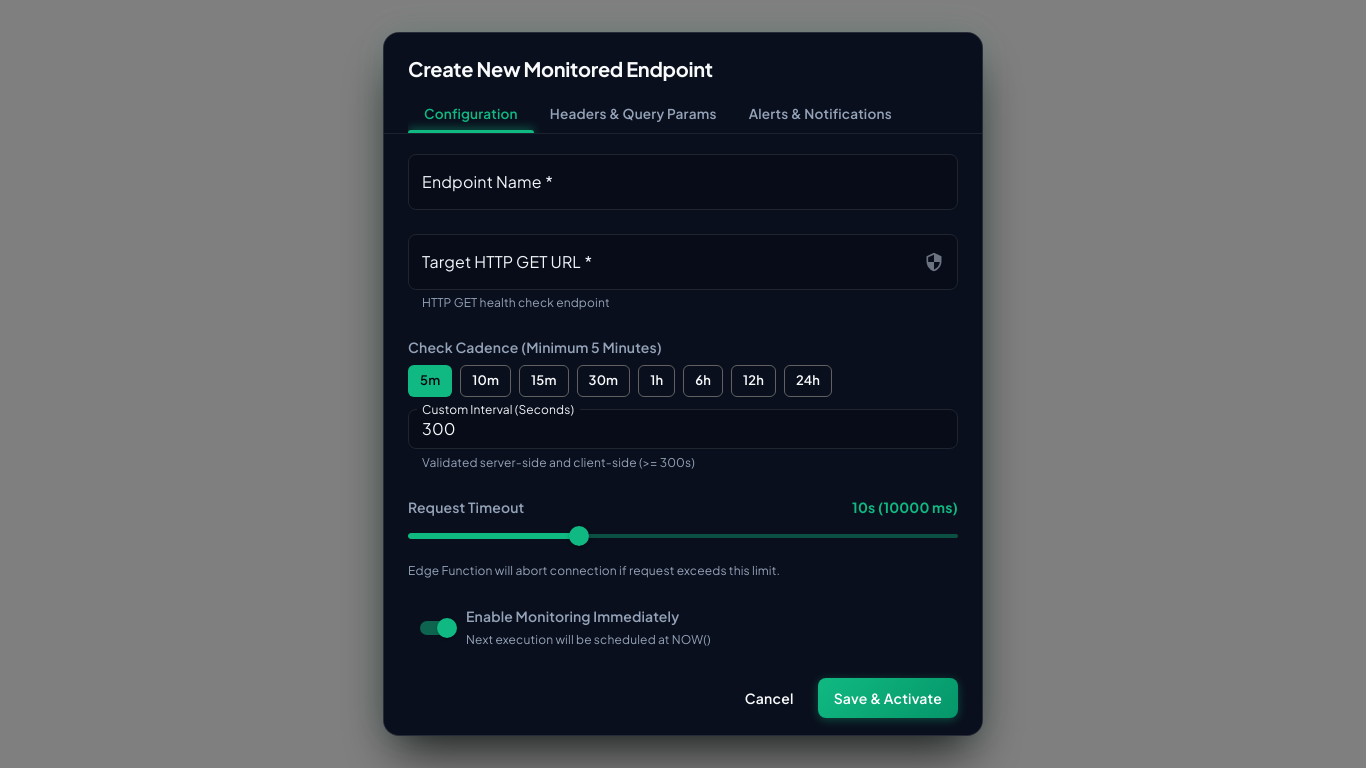
Test: EndpointFormModal Component › rejects invalid notification email address
This screenshot has width=1366, height=768.
# Switch to Alerts tab
Click the tab "Alerts & Notifications" at (820, 113), box [733,93,908,133]
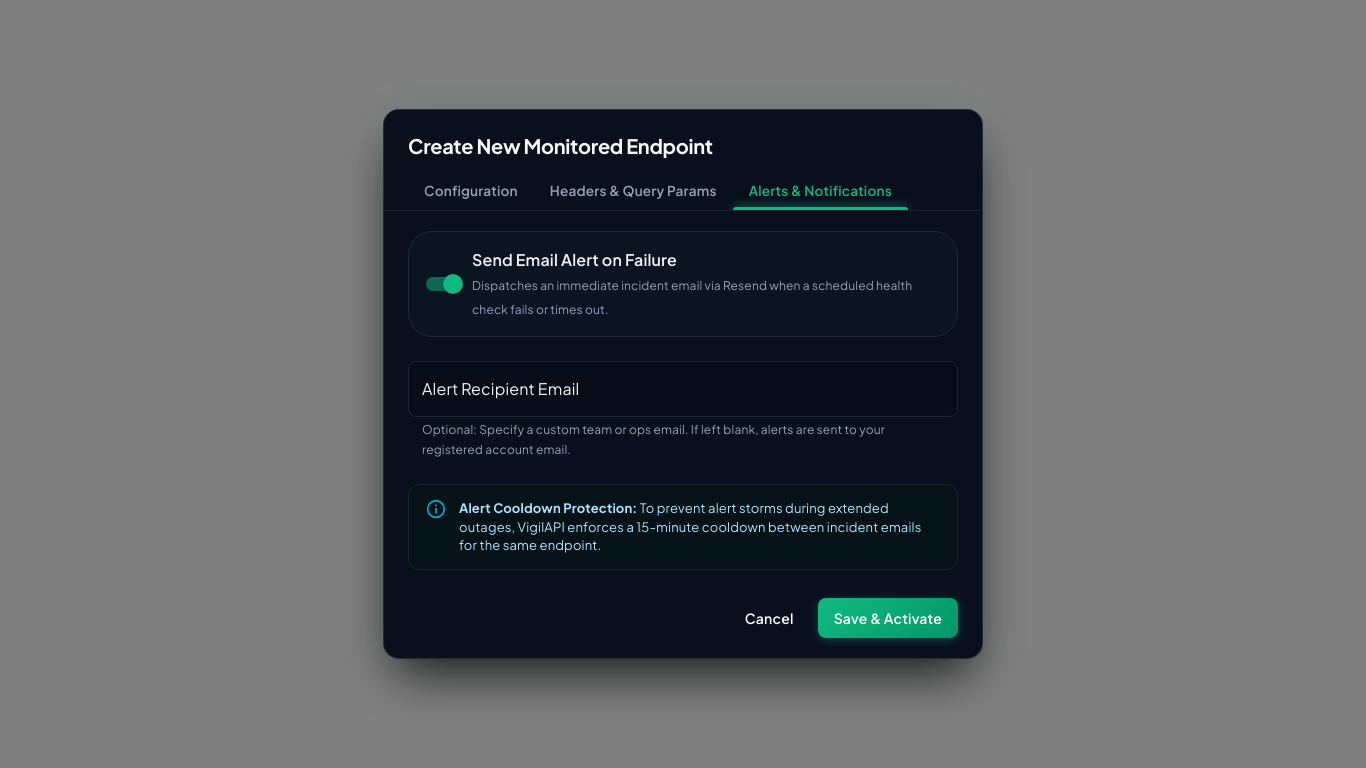
Type "invalid-email-address" into the field labelled "Alert Recipient Email" at (683, 389), box [408,361,958,417]
# Switch to Config tab and submit
Click the tab "Configuration" at (471, 190), box [408,170,534,210]
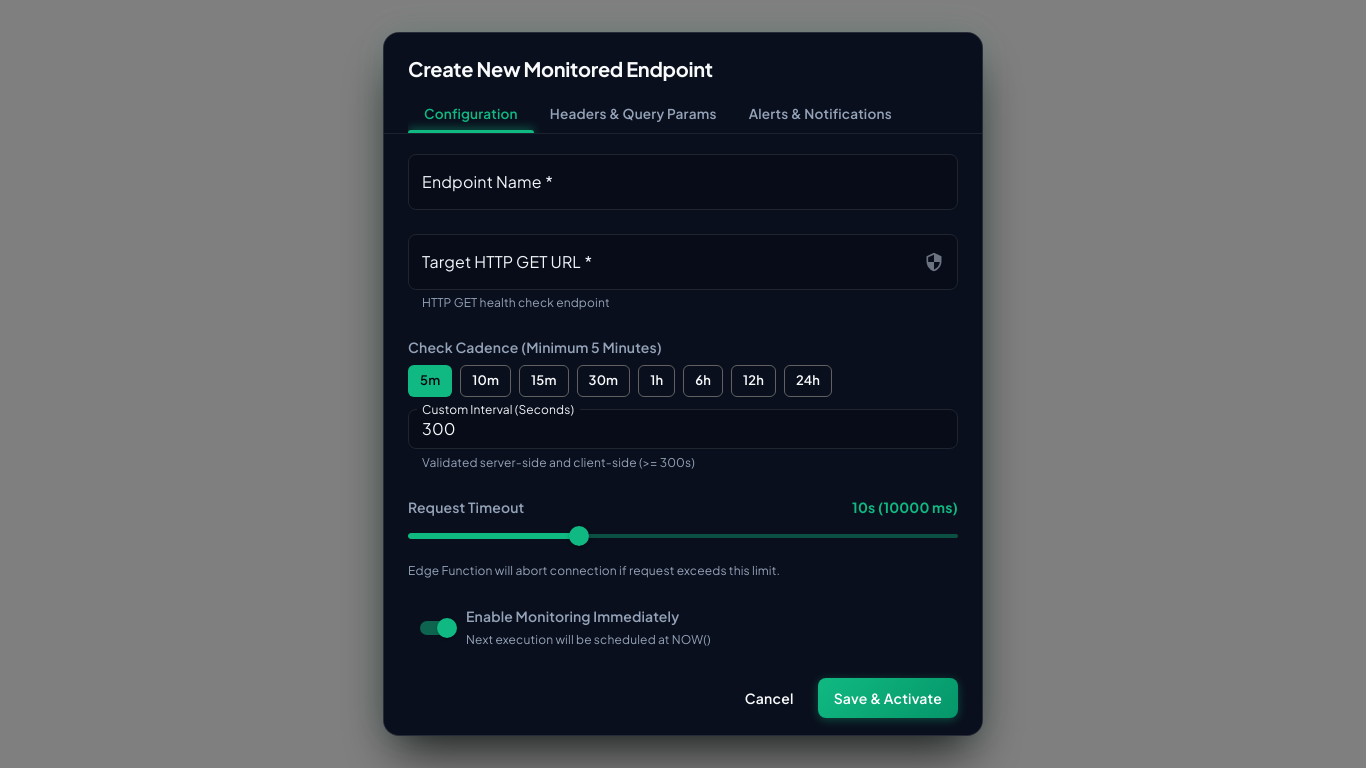
Type "Invalid Email API" into the field labelled "Endpoint Name *" at (683, 182), box [408,154,958,210]
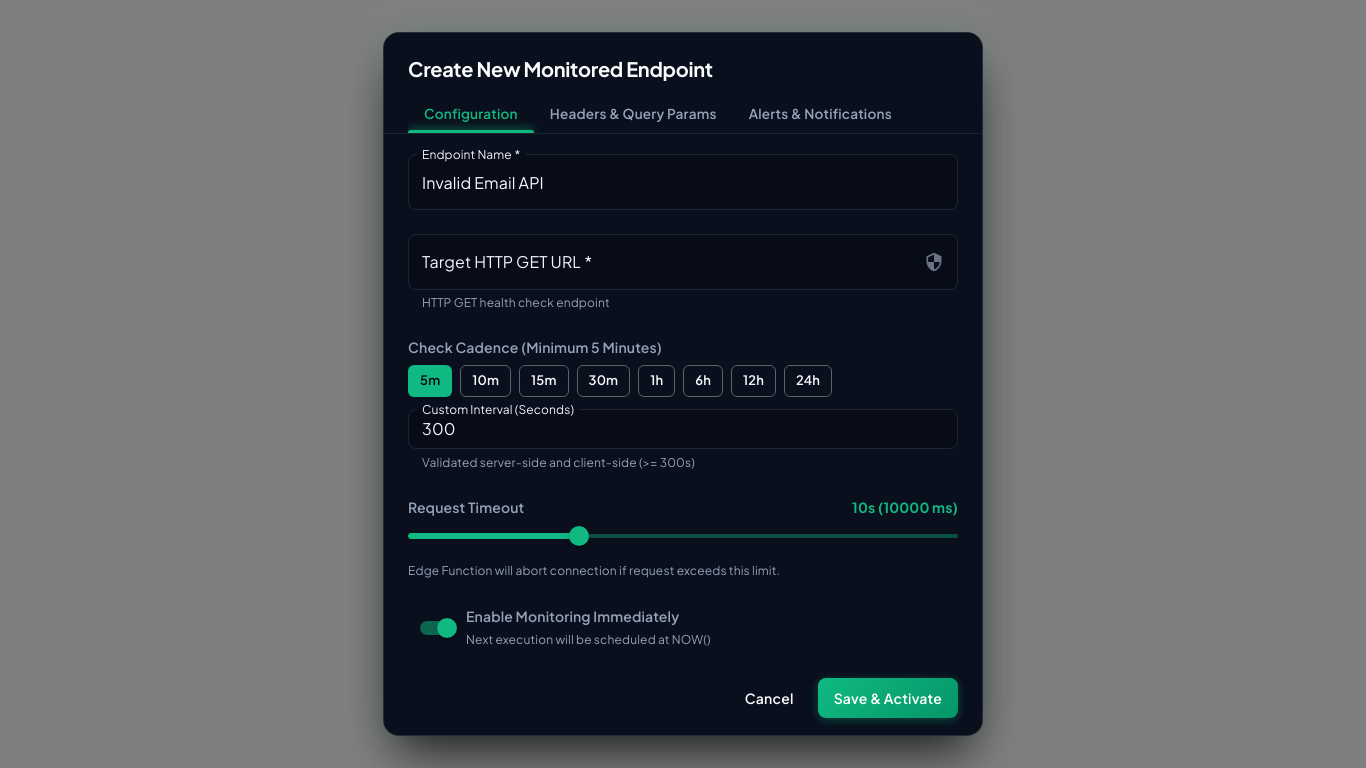
Type "https://httpbin.org/status/200" into the field labelled "Target HTTP GET URL *" at (666, 262), box [408,234,924,290]
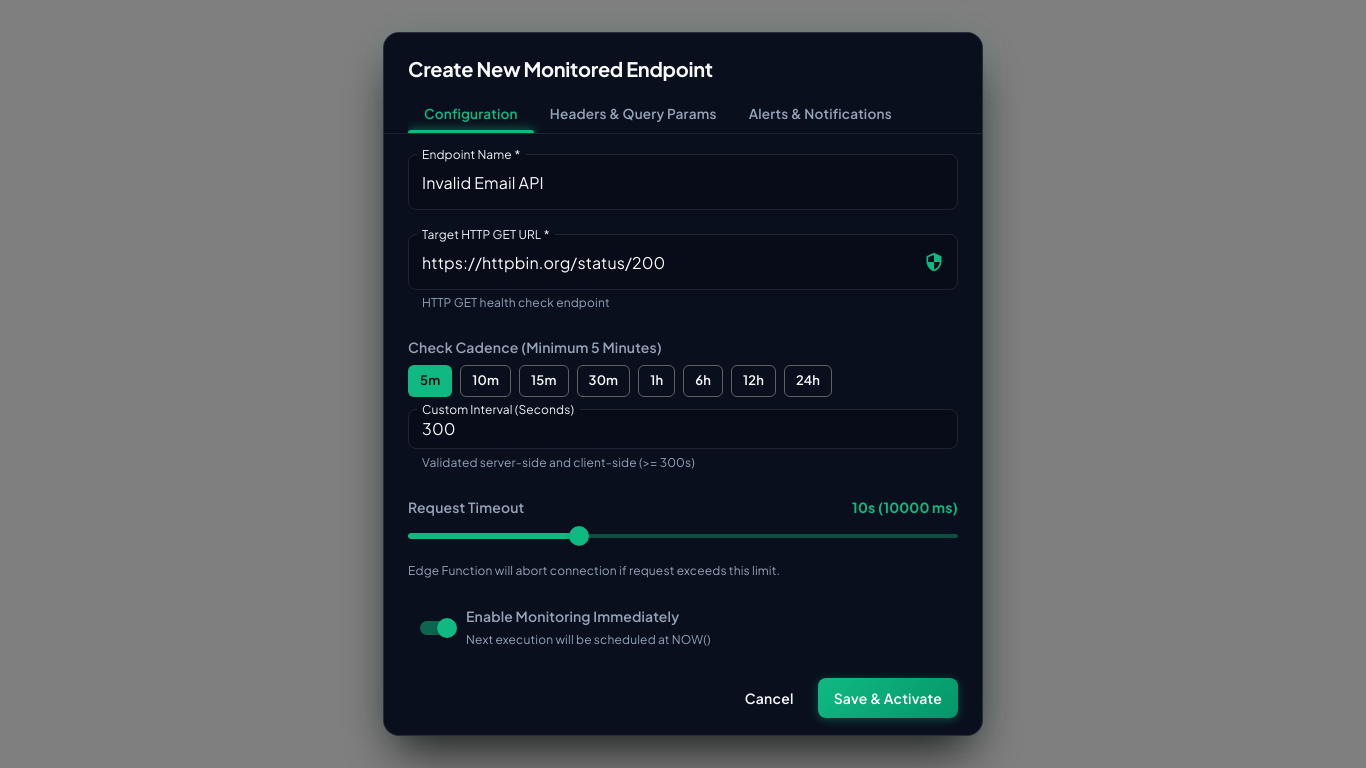
Click the button "Save & Activate" at (888, 698), box [818,678,958,718]
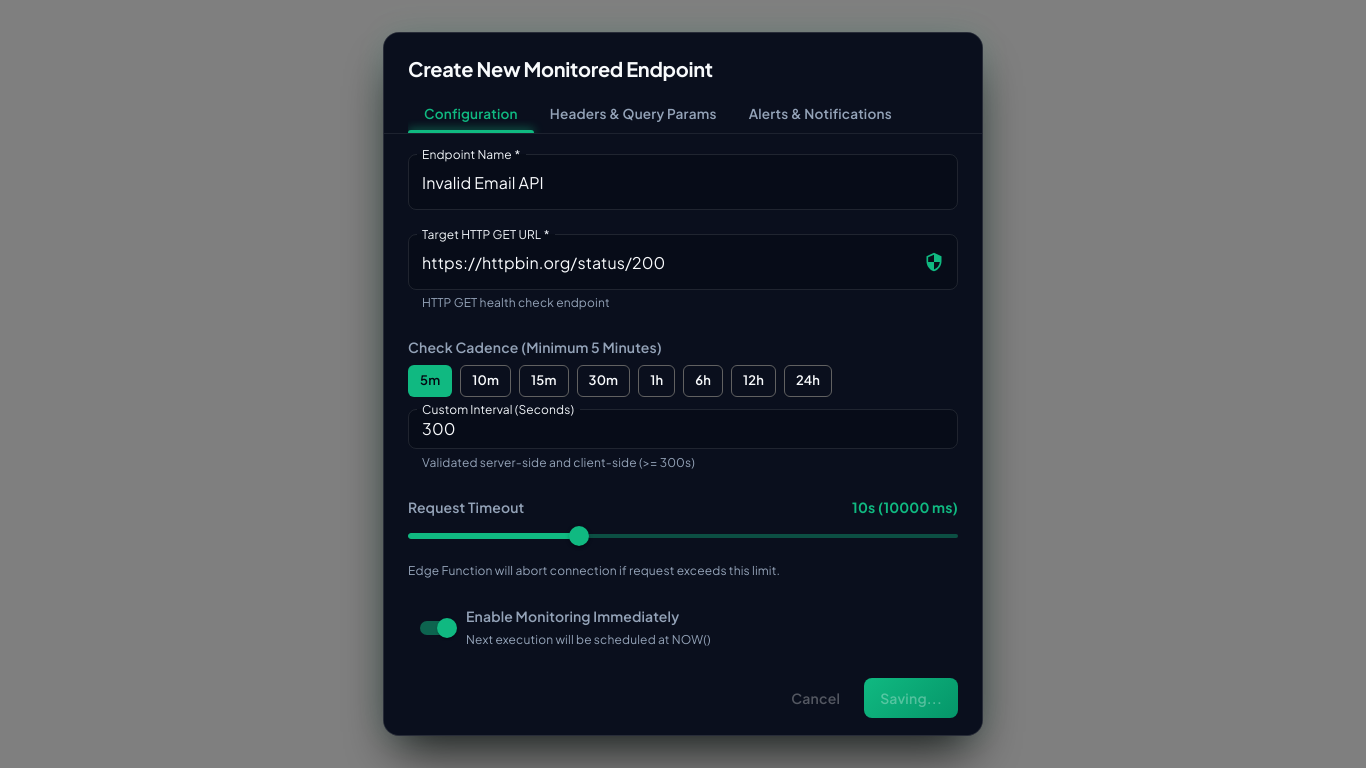
# Switch back to Alerts tab to see the error message
Click the tab "Alerts & Notifications" at (820, 113), box [733,93,908,133]
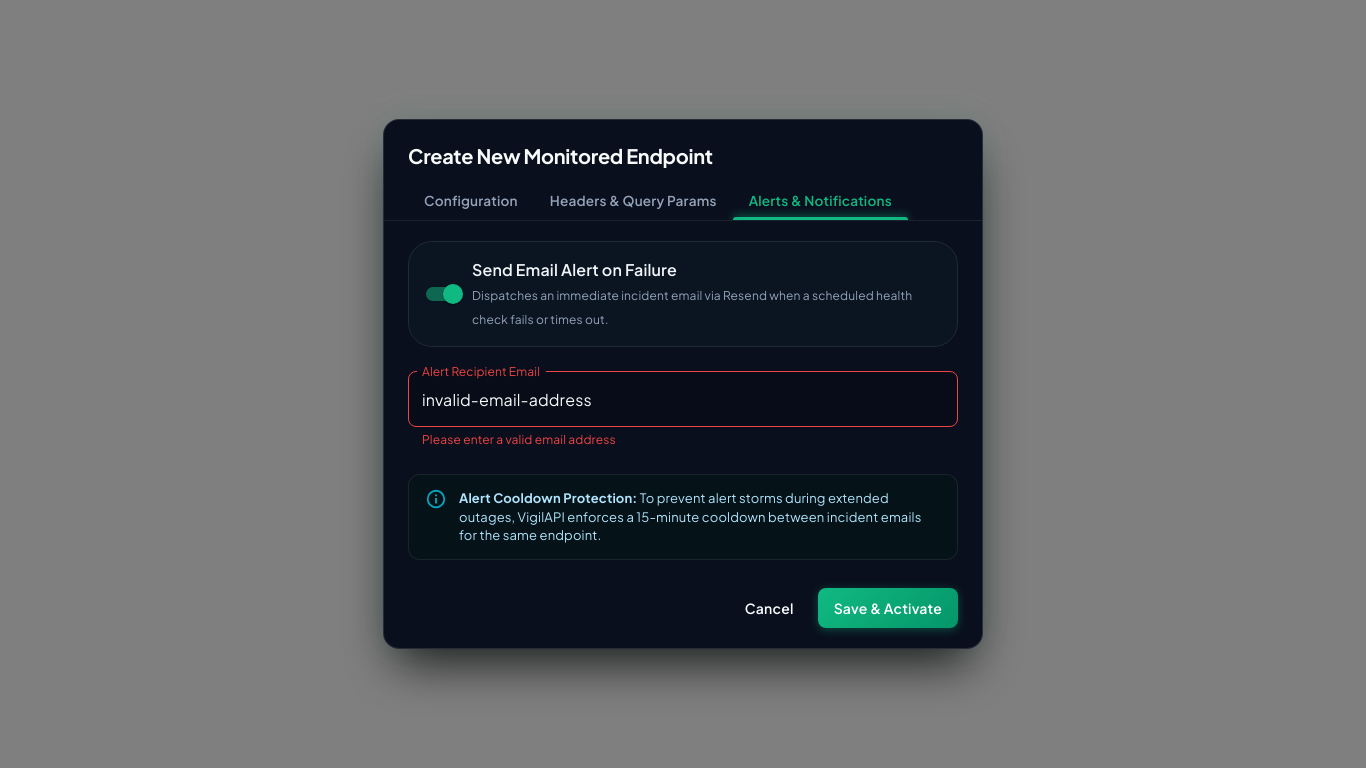
Result: the text "Please enter a valid email address" is shown at [422,432,616,447]
